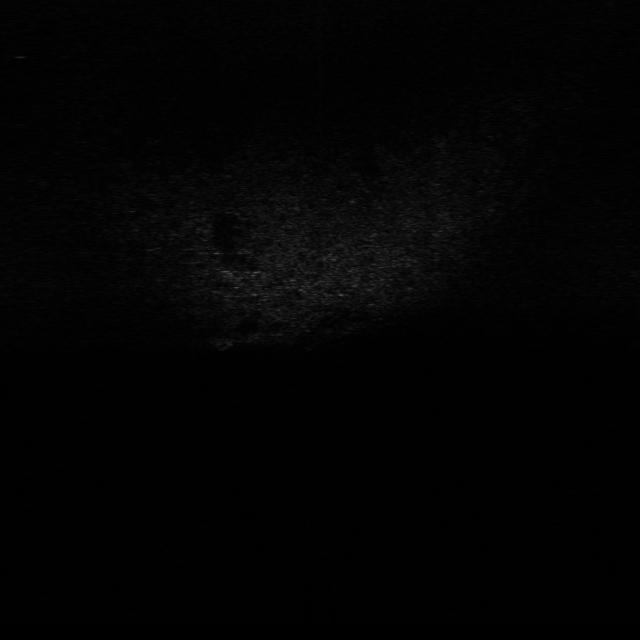cube: (211, 332, 233, 352)
